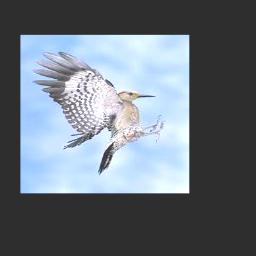Woodpecker: (32, 52, 166, 175)
